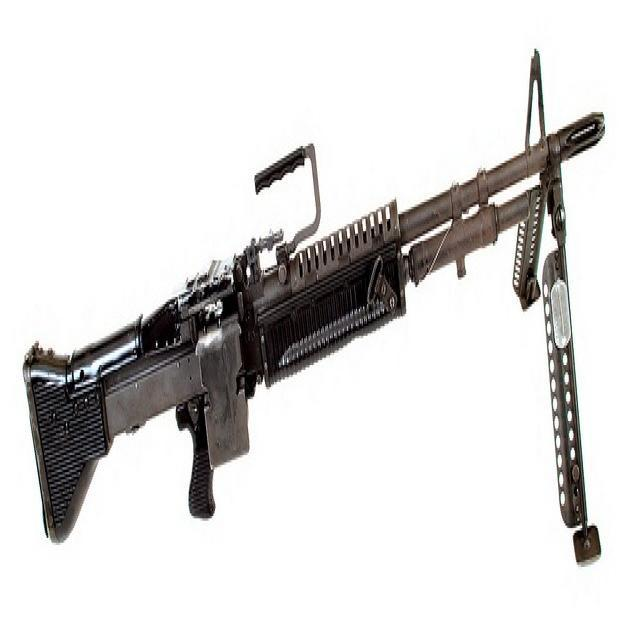weapon: (22, 51, 606, 570)
